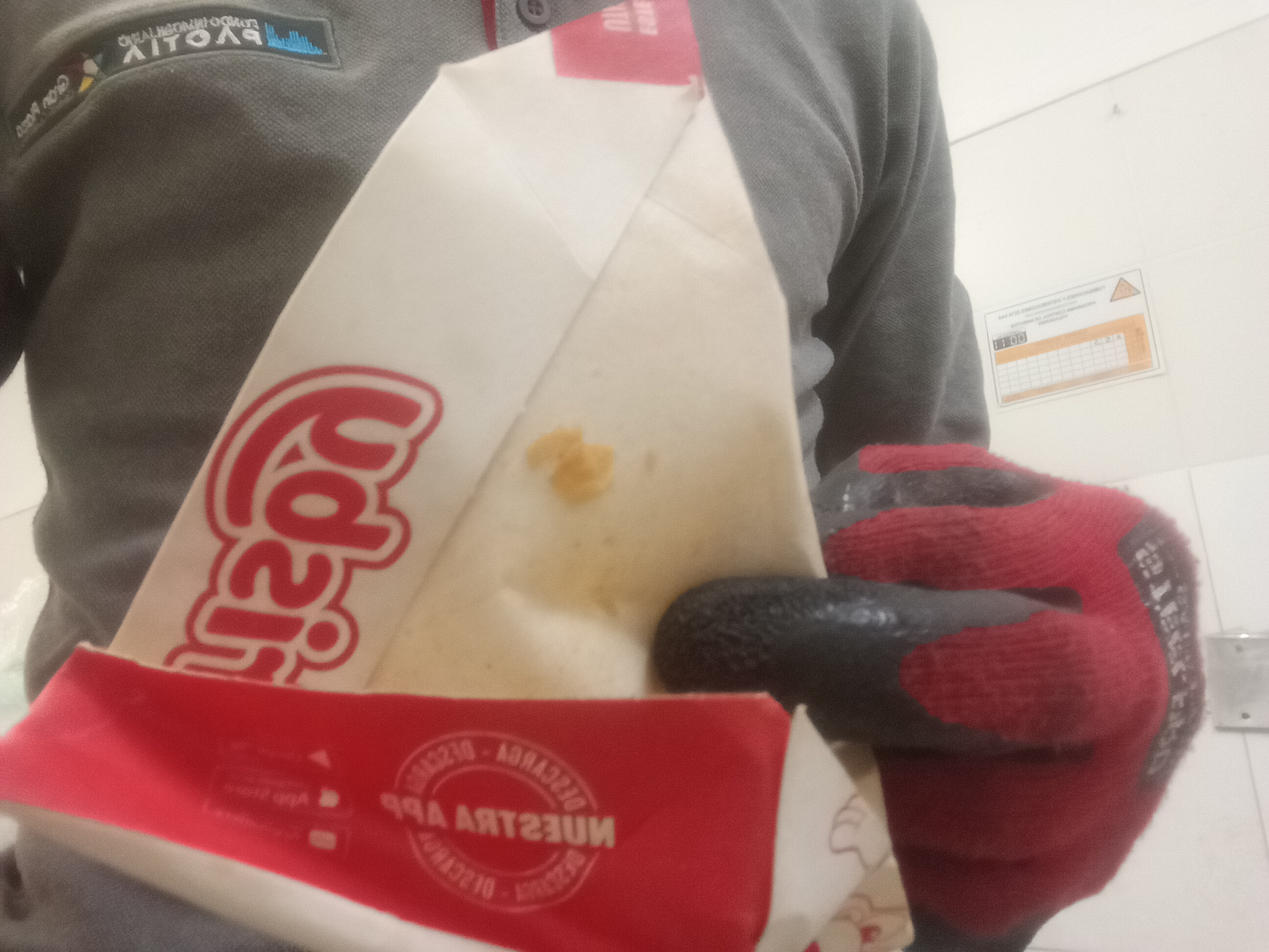Carton: (0, 0, 915, 952)
